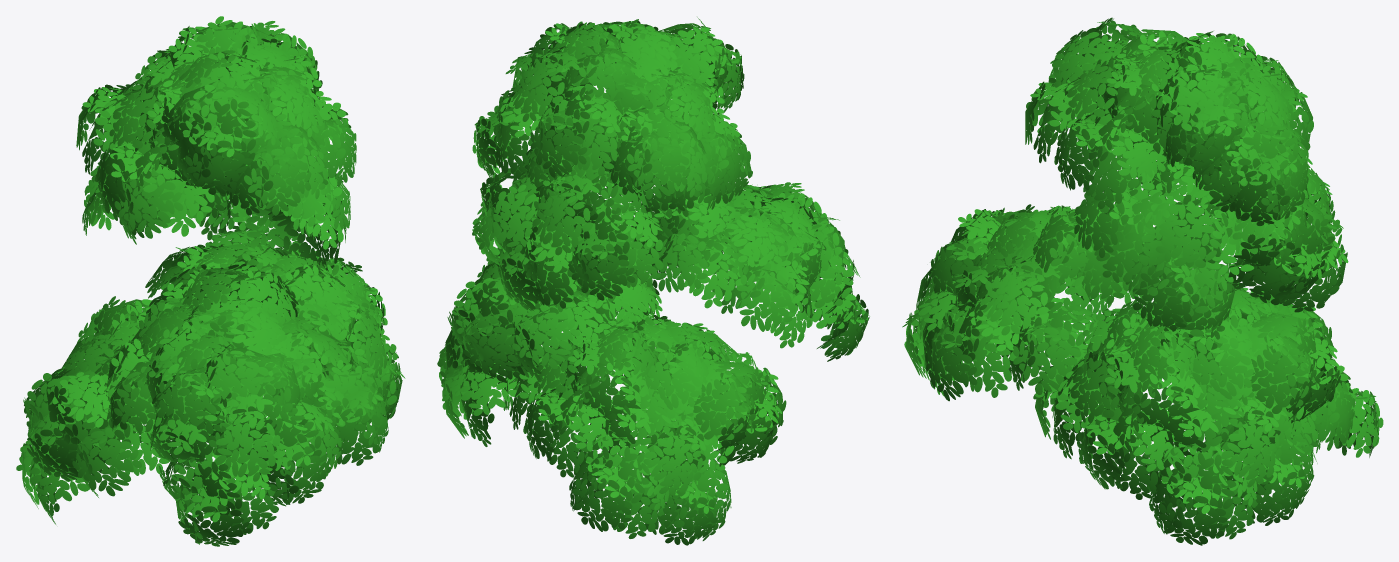
File: Leaves.fbx
The picture shows the model from 3 angles, left to right: view 1: azimuth 30°, elevation 25°; view 2: azimuth 150°, elevation 25°; view 3: azimuth 270°, elevation 25°; orthographic projection. The views are drawn at different scales.
Parts seen in each view (by area): view 1: Plane594, Plane509, Plane279, Plane357, Plane558, Plane189, Plane576, Plane440, Plane317, Plane569, Plane654, Plane691 (+101 smaller); view 2: Plane739, Plane606, Plane310, Plane401, Plane547, Plane224, Plane437, Plane376, Plane325, Plane624, Plane540, Plane500 (+106 smaller); view 3: Plane432, Plane640, Plane667, Plane662, Plane730, Plane410, Plane777, Plane231, Plane655, Plane709, Plane770, Plane425 (+99 smaller).
Boxes of the visible parts, <box> form: Plane594: <box>215,416,280,481</box>; Plane509: <box>72,427,141,496</box>; Plane279: <box>244,146,311,215</box>; Plane357: <box>114,169,183,238</box>; Plane558: <box>200,350,271,409</box>; Plane189: <box>185,140,255,194</box>; Plane576: <box>156,374,216,438</box>; Plane440: <box>52,372,111,427</box>; Plane317: <box>109,88,162,148</box>; Plane569: <box>268,446,331,504</box>; Plane654: <box>322,405,385,465</box>; Plane691: <box>285,264,347,321</box>; Plane739: <box>512,304,579,368</box>; Plane606: <box>736,270,795,331</box>; Plane310: <box>627,137,690,199</box>; Plane401: <box>532,189,592,255</box>; Plane547: <box>644,433,702,495</box>; Plane224: <box>530,116,587,177</box>; Plane437: <box>688,379,748,439</box>; Plane376: <box>568,243,635,300</box>; Plane325: <box>486,184,549,252</box>; Plane624: <box>651,233,707,292</box>; Plane540: <box>572,476,630,531</box>; Plane500: <box>642,352,700,409</box>; Plane432: <box>1155,201,1222,267</box>; Plane640: <box>1012,327,1083,394</box>; Plane667: <box>1244,346,1309,413</box>; Plane662: <box>980,272,1048,335</box>; Plane730: <box>1181,336,1253,401</box>; Plane410: <box>1132,265,1199,331</box>; Plane777: <box>1221,418,1281,487</box>; Plane231: <box>1162,65,1233,132</box>; Plane655: <box>925,334,977,401</box>; Plane709: <box>1070,356,1119,422</box>; Plane770: <box>1158,496,1228,545</box>; Plane425: <box>1074,184,1128,257</box>.
Size of the model in its own units: 153 by 200 by 174.
